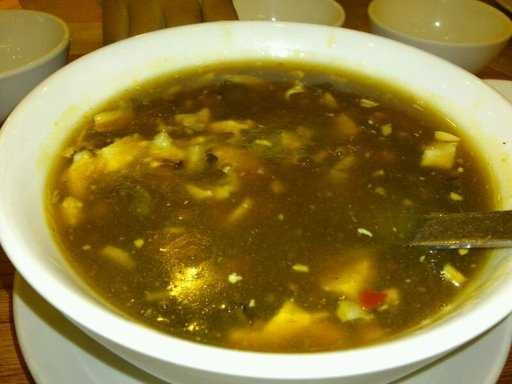soup: (62, 82, 485, 339)
